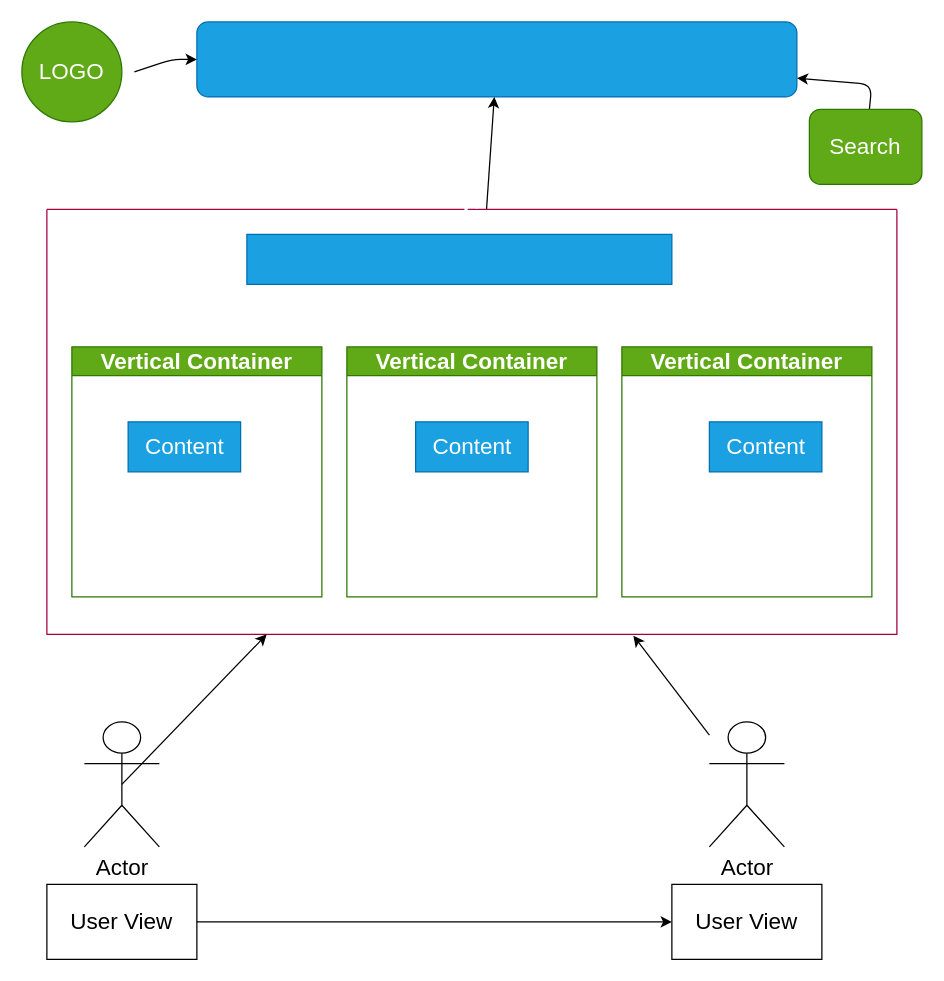
The diagram is 944 pixels wide and 981 high, and some of its shapes have lost their labels. The shapes that lost their labels are listed below. From the top down, each one's centre as x and y in pixels, then its label:
the point at 496,59: Navbar With different options
the point at 459,258: Container For the content of the website
